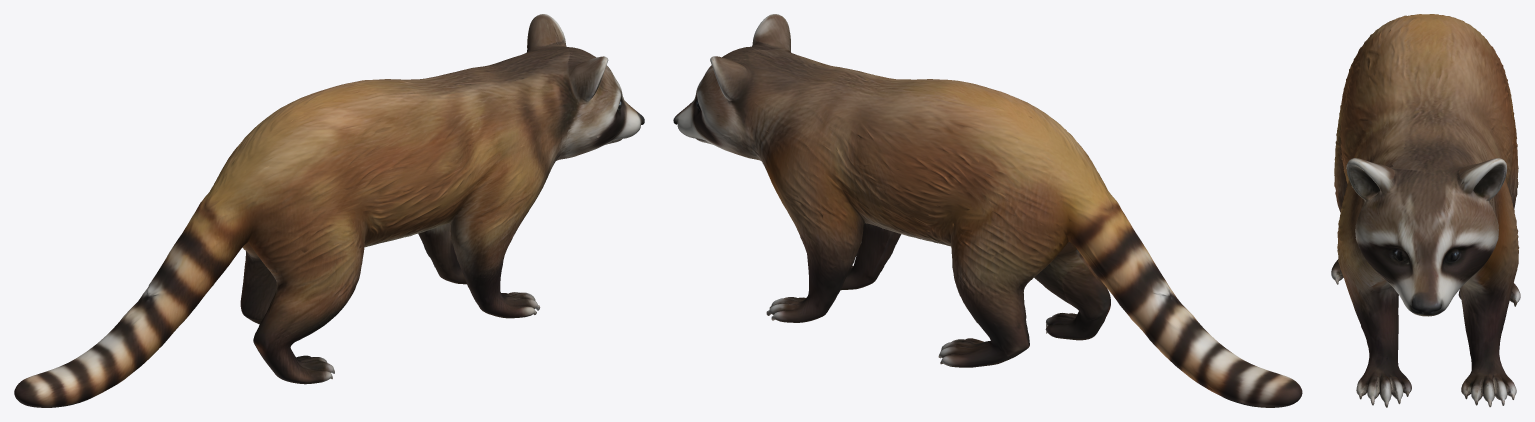
Rendered from Cangrejera.fbx.
3 views of the same model, side by side, from view 1: azimuth 30°, elevation 25°; view 2: azimuth 150°, elevation 25°; view 3: azimuth 270°, elevation 25° (orthographic). The views are drawn at different scales.
Visible parts, largest first — view 1: Mesh_0; view 2: Mesh_0; view 3: Mesh_0.
Boxes of the visible parts, box(x1,y1,x2,y2) form: Mesh_0: box(14, 14, 644, 407); Mesh_0: box(673, 14, 1302, 407); Mesh_0: box(1331, 14, 1520, 407).
Bounding box in the file's own units: 200 × 75.45 × 45.5.
Materials: 1 (1 with a texture image).
